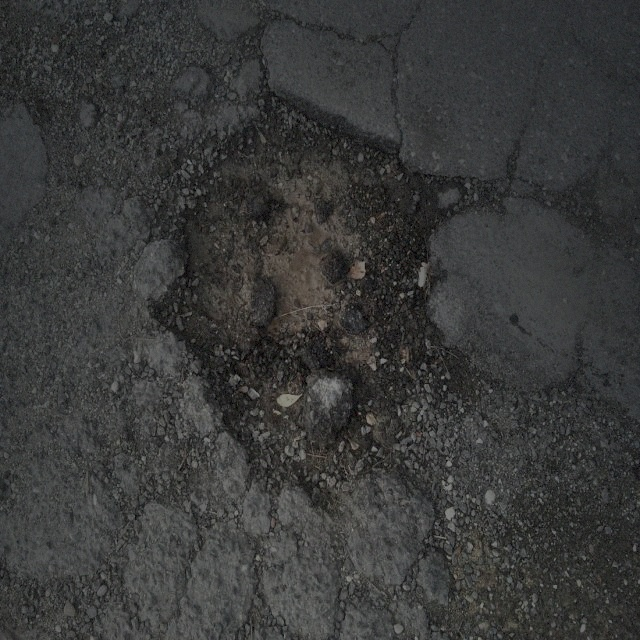pothole: (161, 80, 471, 530)
